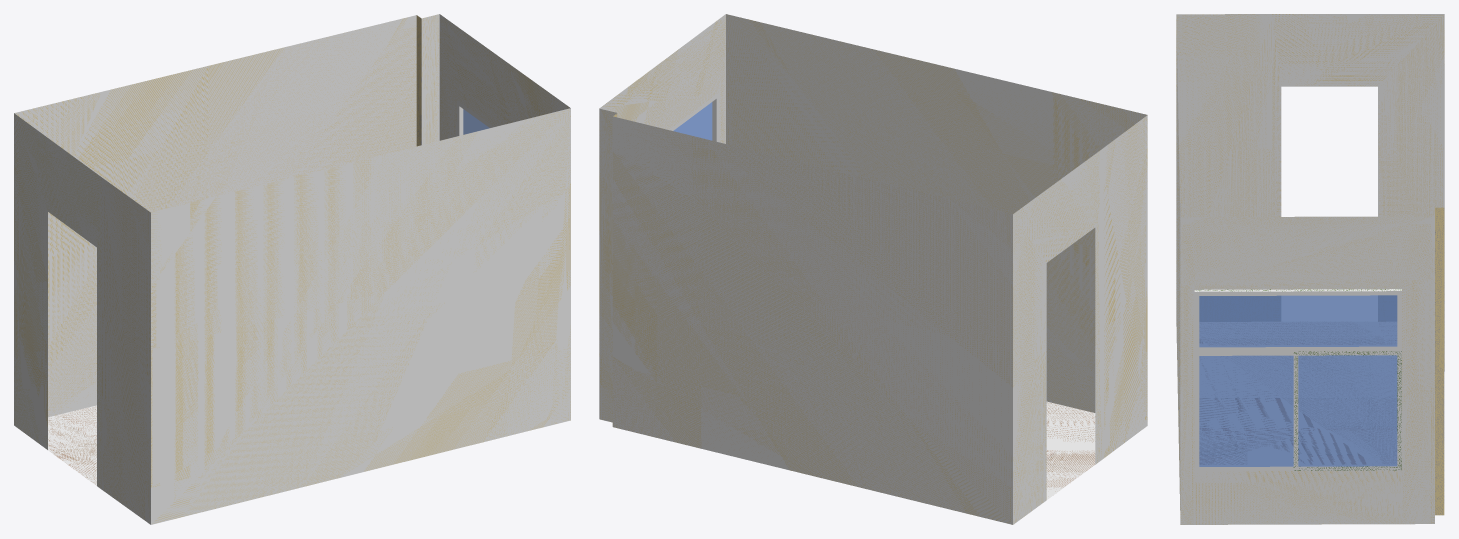
The model's file is DES013.obj.
3 views of the same model, side by side, from view 1: azimuth 30°, elevation 25°; view 2: azimuth 150°, elevation 25°; view 3: azimuth 270°, elevation 25° (orthographic).
Parts seen in each view (by area): view 1: Mesh7 DES013 Model, Mesh1 ventana1_2_1 DES013 Model; view 2: Mesh7 DES013 Model, Mesh1 ventana1_2_1 DES013 Model; view 3: Mesh7 DES013 Model, Mesh1 ventana1_2_1 DES013 Model.
Part boxes in pixels (<box>): Mesh7 DES013 Model: <box>14,14,570,524</box>; Mesh1 ventana1_2_1 DES013 Model: <box>456,100,493,136</box>; Mesh7 DES013 Model: <box>599,14,1147,524</box>; Mesh1 ventana1_2_1 DES013 Model: <box>669,93,718,142</box>; Mesh7 DES013 Model: <box>1176,14,1444,524</box>; Mesh1 ventana1_2_1 DES013 Model: <box>1194,289,1401,471</box>.
Bounding box in the file's own units: 5.15 × 3.6 × 2.84.
8 materials, 1 textured.
